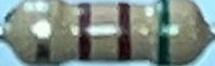Brown: (118, 2, 133, 58), (79, 1, 92, 59)
Green: (156, 0, 171, 63)
Side-Silver: (33, 0, 51, 63)
